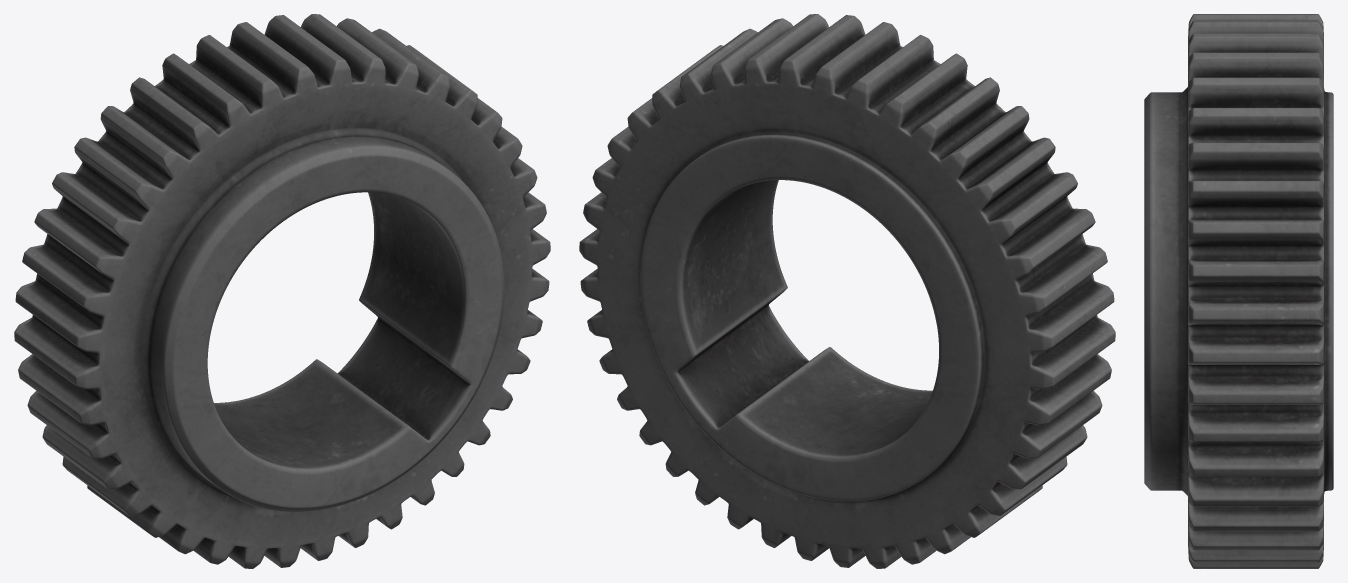
Rendered from Gear1.gltf.
3 renders of one model, left to right at view 1: azimuth 30°, elevation 25°; view 2: azimuth 150°, elevation 25°; view 3: azimuth 270°, elevation 25°, orthographic.
Visible parts, largest first — view 1: Gear1; view 2: Gear1; view 3: Gear1.
Part boxes in pixels (x1=…): Gear1: x1=14, y1=14, x2=550, y2=568; Gear1: x1=579, y1=14, x2=1115, y2=568; Gear1: x1=1144, y1=14, x2=1333, y2=568.
Bounding box in the file's own units: 12.14 × 12.14 × 4.14.
Materials: 1 (1 with a texture image).
